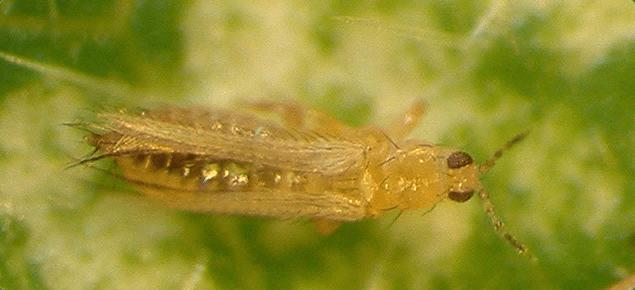Thrips: (66, 86, 535, 254)
